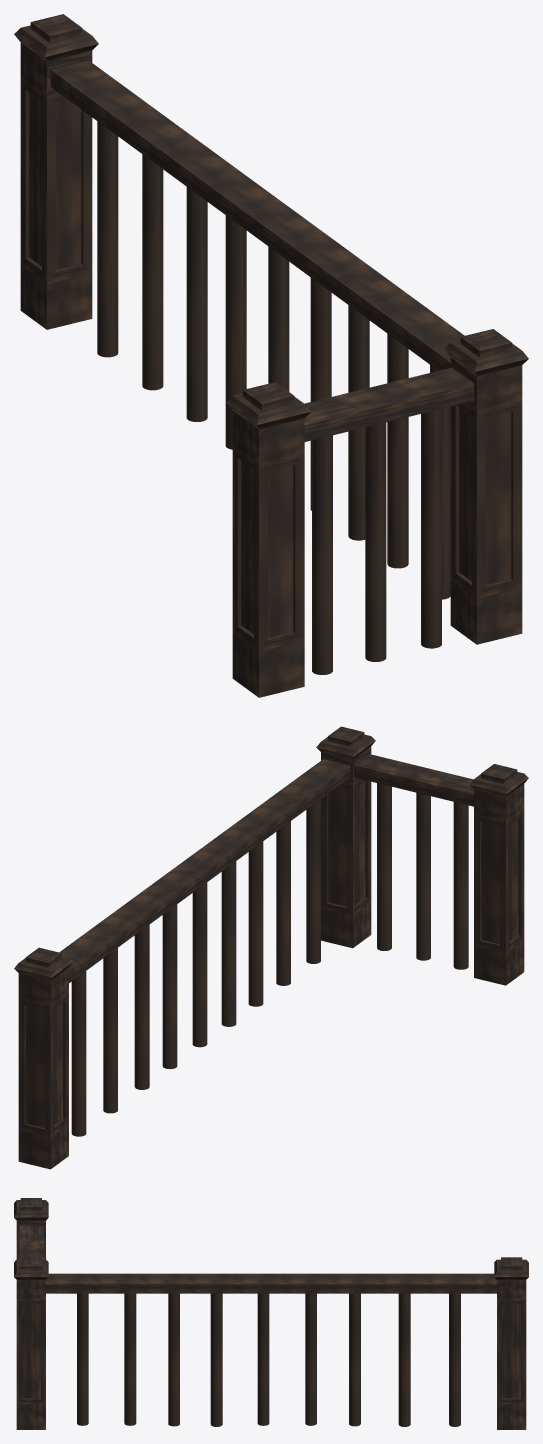
The model's file is SB_Rail_Right.fbx.
The picture shows the model from 3 angles, top to bottom: view 1: azimuth 30°, elevation 25°; view 2: azimuth 150°, elevation 25°; view 3: azimuth 270°, elevation 25°; orthographic projection. The views are drawn at different scales.
Visible parts, largest first — view 1: SB_Railing_3; view 2: SB_Railing_3; view 3: SB_Railing_3.
Part boxes in pixels (x1,y1,x2,y2): SB_Railing_3: (14, 14, 528, 697); SB_Railing_3: (14, 726, 528, 1169); SB_Railing_3: (14, 1198, 528, 1429).
Bounding box in the file's own units: 247 × 254 × 726.
